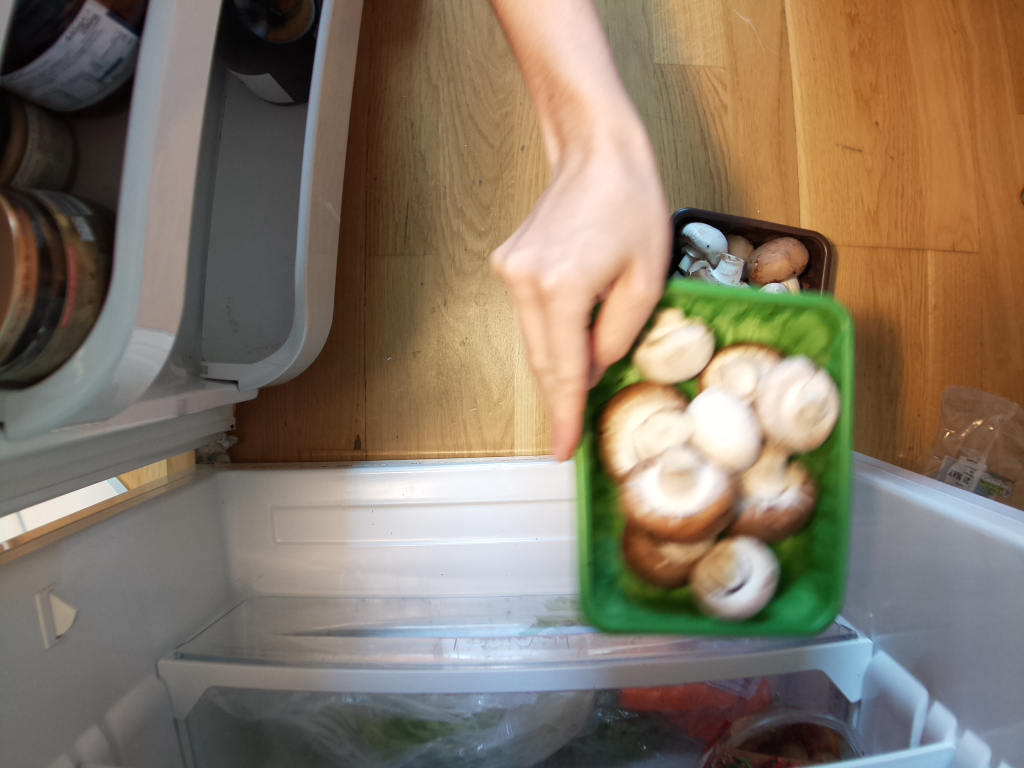mushrooms: (576, 286, 862, 644), (666, 204, 848, 300)
